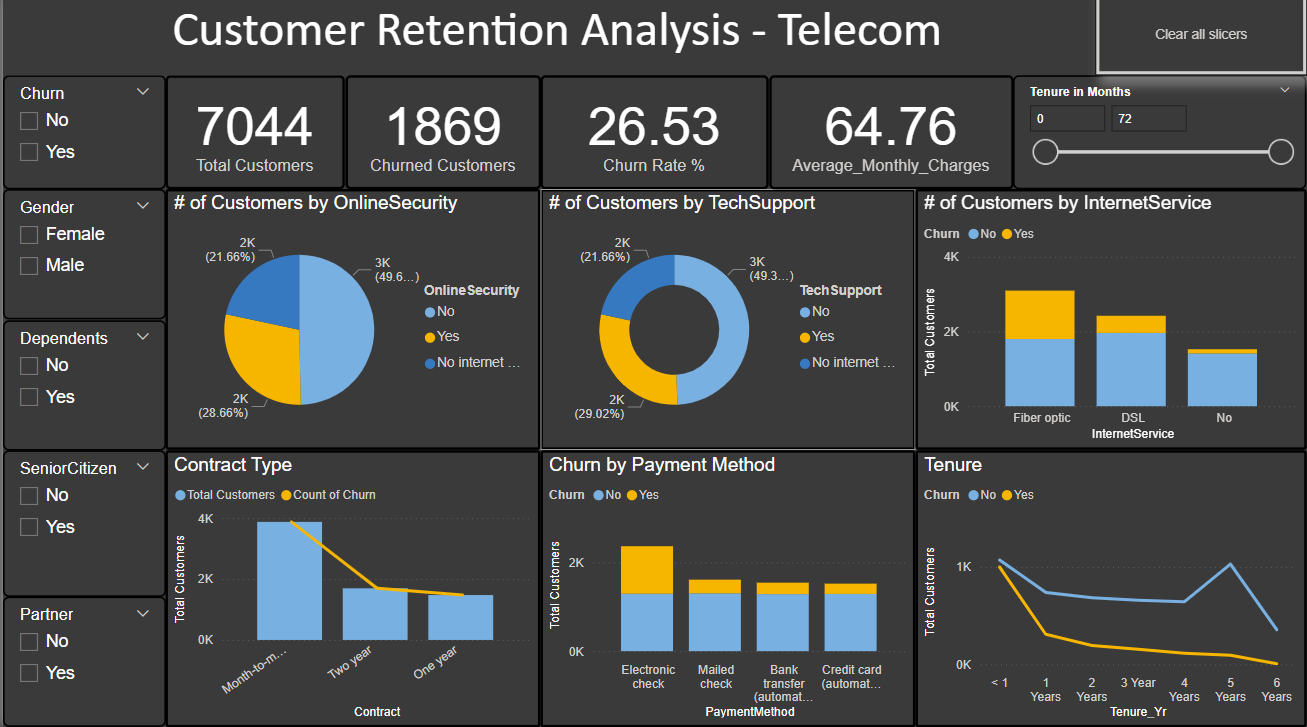

This screenshot's page, from the dashboard's own definition file:
{"tool":"powerbi","page":{"name":"Overview","canvas":[1280,720],"ordinal":0},"visuals":[{"type":"slicer","title":"Churn","fields":{"Values":["TelcomCustomer_Meged.Churn"]},"box":[0,80,160,112],"z":0},{"type":"lineChart","title":"Tenure","fields":{"Category":["TelcomCustomer_Meged.Tenure_Yr"],"Series":["TelcomCustomer_Meged.Churn"],"Y":["TelcomCustomer_Meged.Total Customers"]},"box":[896,448,384,272],"z":1000},{"type":"card","fields":{"Values":["TelcomCustomer_Meged.Total Customers"]},"box":[160,80,176,112],"z":2000},{"type":"textbox","box":[0,0,1088,80],"z":3000},{"type":"card","fields":{"Values":["TelcomCustomer_Meged.Churn Rate %"]},"box":[528,80,224,112],"z":4000},{"type":"card","fields":{"Values":["TelcomCustomer_Meged.Churned Customers"]},"box":[336,80,192,112],"z":5000},{"type":"slicer","fields":{"Values":["TelcomCustomer_Meged.Dependents"]},"box":[0,320,160,128],"z":6000},{"type":"slicer","fields":{"Values":["TelcomCustomer_Meged.SeniorCitizen"]},"box":[0,448,160,144],"z":7000},{"type":"slicer","fields":{"Values":["TelcomCustomer_Meged.tenure"]},"box":[992,80,288,112],"z":8000},{"type":"lineStackedColumnComboChart","title":"Contract Type","fields":{"Category":["TelcomCustomer_Meged.Contract"],"Y2":["CountNonNull(TelcomCustomer_Meged.Churn)"],"Y":["TelcomCustomer_Meged.Total Customers"]},"box":[160,448,368,272],"z":9000},{"type":"columnChart","title":"Churn by Payment Method","fields":{"Category":["TelcomCustomer_Meged.PaymentMethod"],"Series":["TelcomCustomer_Meged.Churn"],"Y":["TelcomCustomer_Meged.Total Customers"]},"box":[528,448,368,272],"z":10000},{"type":"slicer","fields":{"Values":["TelcomCustomer_Meged.gender"]},"box":[0,192,160,128],"z":11000},{"type":"pieChart","title":"# of Customers by OnlineSecurity","fields":{"Category":["TelcomCustomer_Meged.OnlineSecurity"],"Y":["TelcomCustomer_Meged.Total Customers"]},"box":[160,192,368,256],"z":12000},{"type":"donutChart","title":"# of Customers by TechSupport","fields":{"Y":["TelcomCustomer_Meged.Total Customers"],"Category":["TelcomCustomer_Meged.TechSupport"]},"box":[528,192,368,256],"z":13000},{"type":"columnChart","title":"# of Customers by InternetService","fields":{"Y":["TelcomCustomer_Meged.Total Customers"],"Category":["TelcomCustomer_Meged.InternetService"],"Series":["TelcomCustomer_Meged.Churn"]},"box":[896,192,384,256],"z":14000},{"type":"slicer","fields":{"Values":["TelcomCustomer_Meged.Partner"]},"box":[0,592,160,128],"z":15000},{"type":"actionButton","box":[1072,0,208,80],"z":16000},{"type":"card","fields":{"Values":["TelcomCustomer_Meged.Average_Monthly_Charges"]},"box":[752,80,240,112],"z":17000}]}

Visuals, with their boxes in screenshot pixels (x1, y1, x2, y2), scaled from the page's 1280x720 canvas onto the 1307x727 screenshot:
"Churn" slicer: <box>0,81,163,194</box>
"Tenure" lineChart: <box>915,452,1306,726</box>
card - TelcomCustomer_Meged.Total Customers: <box>163,81,343,194</box>
textbox: <box>0,0,1111,81</box>
card - TelcomCustomer_Meged.Churn Rate %: <box>539,81,768,194</box>
card - TelcomCustomer_Meged.Churned Customers: <box>343,81,539,194</box>
slicer - TelcomCustomer_Meged.Dependents: <box>0,323,163,452</box>
slicer - TelcomCustomer_Meged.SeniorCitizen: <box>0,452,163,598</box>
slicer - TelcomCustomer_Meged.tenure: <box>1013,81,1306,194</box>
"Contract Type" lineStackedColumnComboChart: <box>163,452,539,726</box>
"Churn by Payment Method" columnChart: <box>539,452,915,726</box>
slicer - TelcomCustomer_Meged.gender: <box>0,194,163,323</box>
"# of Customers by OnlineSecurity" pieChart: <box>163,194,539,452</box>
"# of Customers by TechSupport" donutChart: <box>539,194,915,452</box>
"# of Customers by InternetService" columnChart: <box>915,194,1306,452</box>
slicer - TelcomCustomer_Meged.Partner: <box>0,598,163,726</box>
actionButton: <box>1095,0,1306,81</box>
card - TelcomCustomer_Meged.Average_Monthly_Charges: <box>768,81,1013,194</box>
